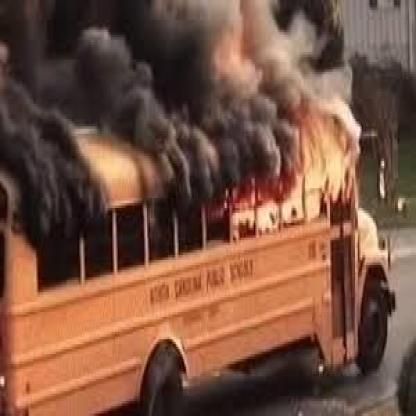fire: (288, 102, 362, 194)
smoke: (0, 0, 294, 196)
